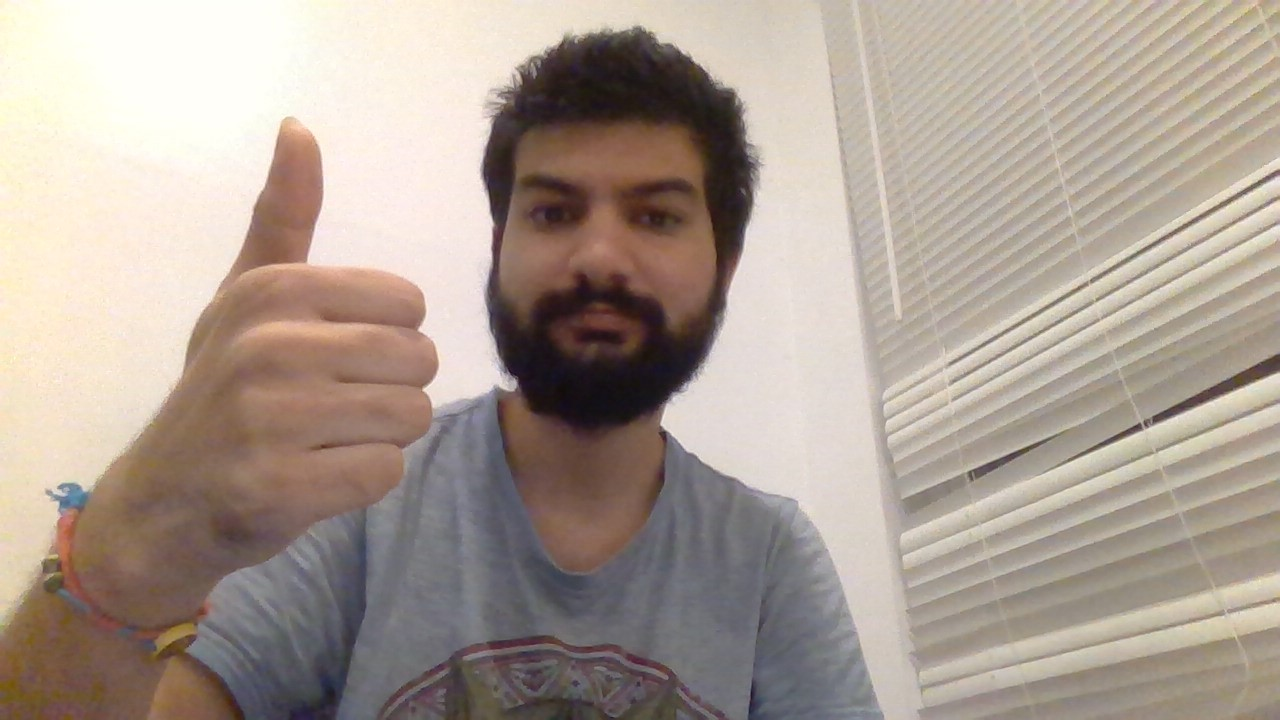up: (183, 108, 456, 533)
